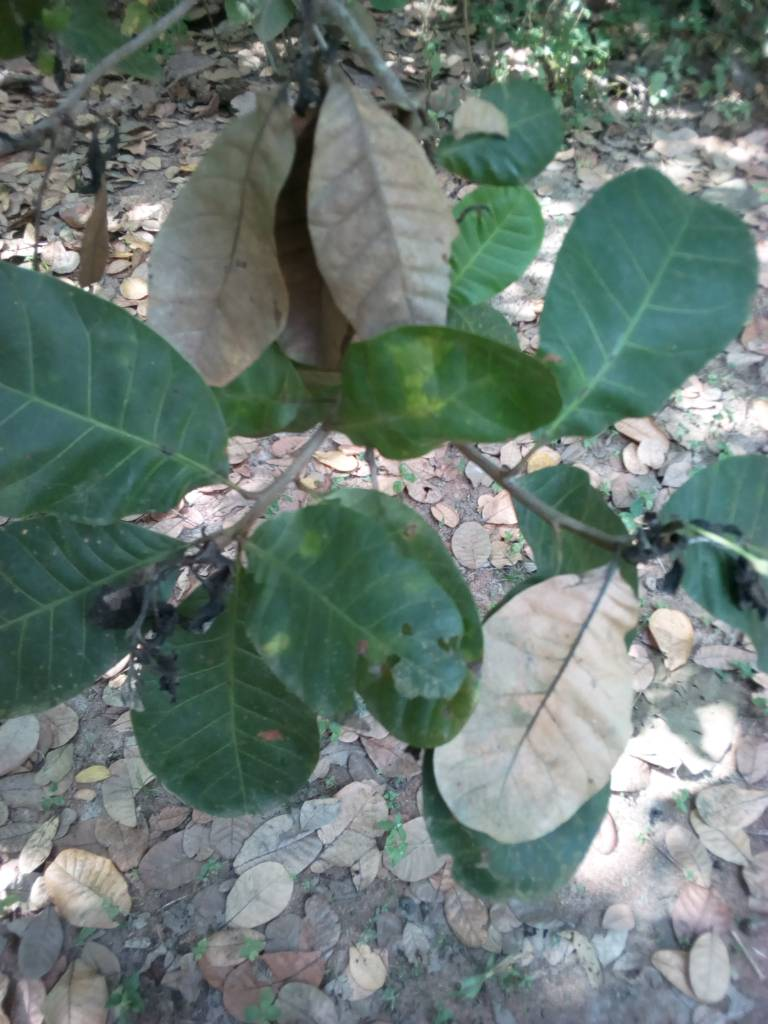Dessèchement des bourgeons: (94, 530, 244, 705), (616, 517, 768, 615)
